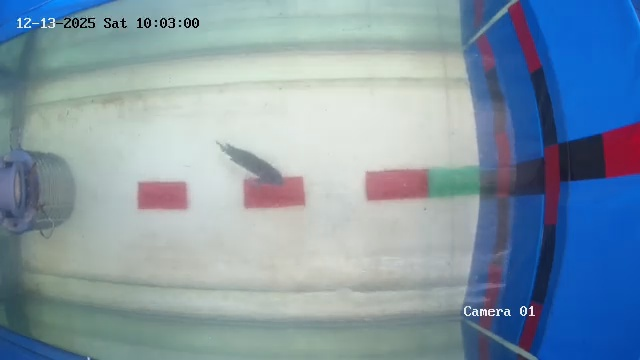fish: (219, 130, 285, 204)
